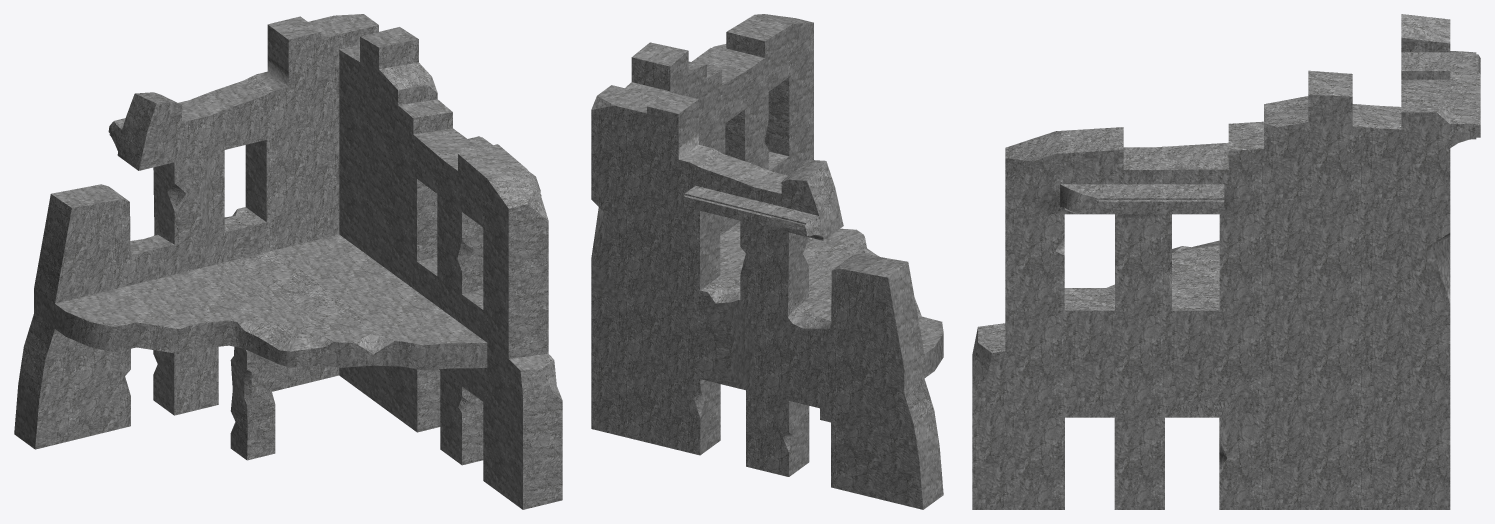
File: materials_3_building_8.fbx
3 views of the same model, side by side, from view 1: azimuth 30°, elevation 25°; view 2: azimuth 150°, elevation 25°; view 3: azimuth 270°, elevation 25° (orthographic). The views are drawn at different scales.
Visible parts, largest first — view 1: materials_3_building_8; view 2: materials_3_building_8; view 3: materials_3_building_8.
Part boxes in pixels (bbox=[...]): materials_3_building_8: bbox=[14, 14, 562, 509]; materials_3_building_8: bbox=[591, 14, 943, 509]; materials_3_building_8: bbox=[972, 14, 1480, 509].
Size of the model in its own units: 873 by 802 by 887.
